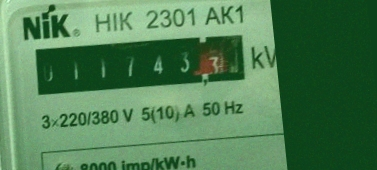0: (39, 56, 56, 84)
1: (66, 53, 83, 82), (94, 51, 109, 80)
3: (175, 47, 191, 75), (205, 54, 222, 76)
4: (149, 50, 165, 77)
7: (121, 51, 137, 78)
screen: (25, 22, 256, 108)
